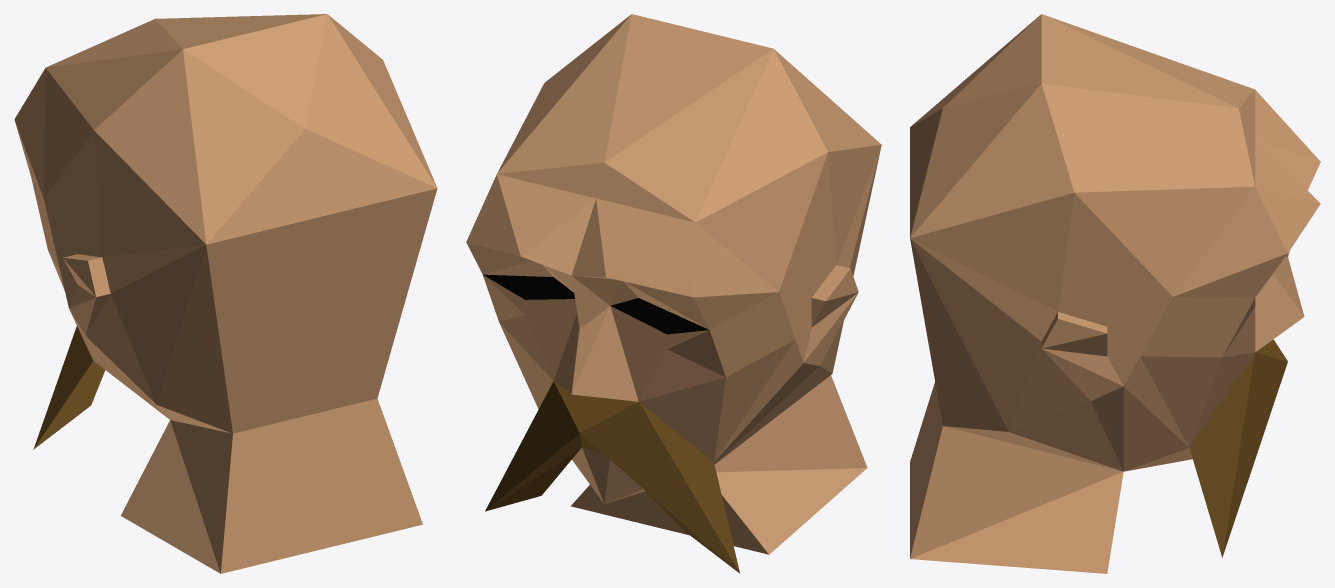
The model's file is npc_world_kamen_0.obj.
3 renders of one model, left to right at view 1: azimuth 30°, elevation 25°; view 2: azimuth 150°, elevation 25°; view 3: azimuth 270°, elevation 25°, orthographic.
Size of the model in its own units: 0.1719 by 0.25 by 0.1953.
